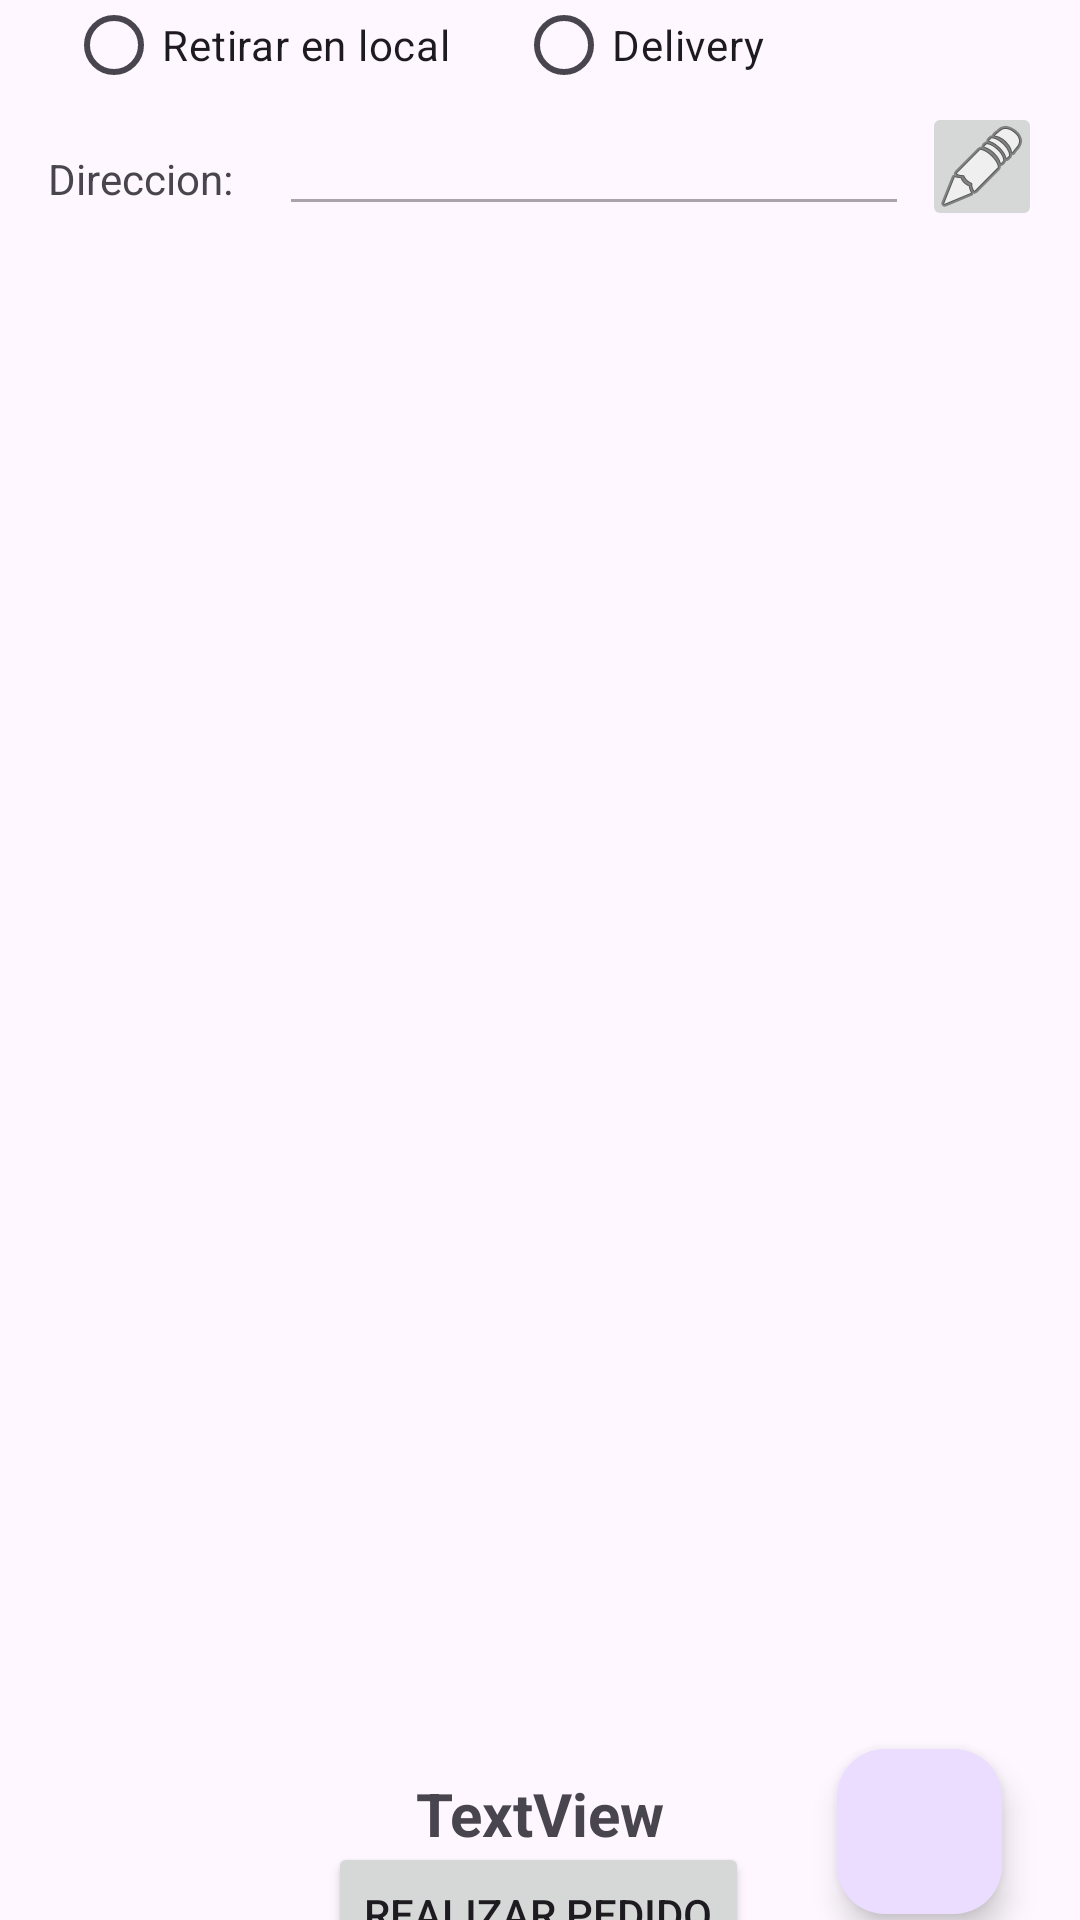

Named icons in this screenshot (1080*1920) and their bounding boxes, BBox(x1, y1, x2, y2):
edit: BBox(934, 120, 1030, 213)
